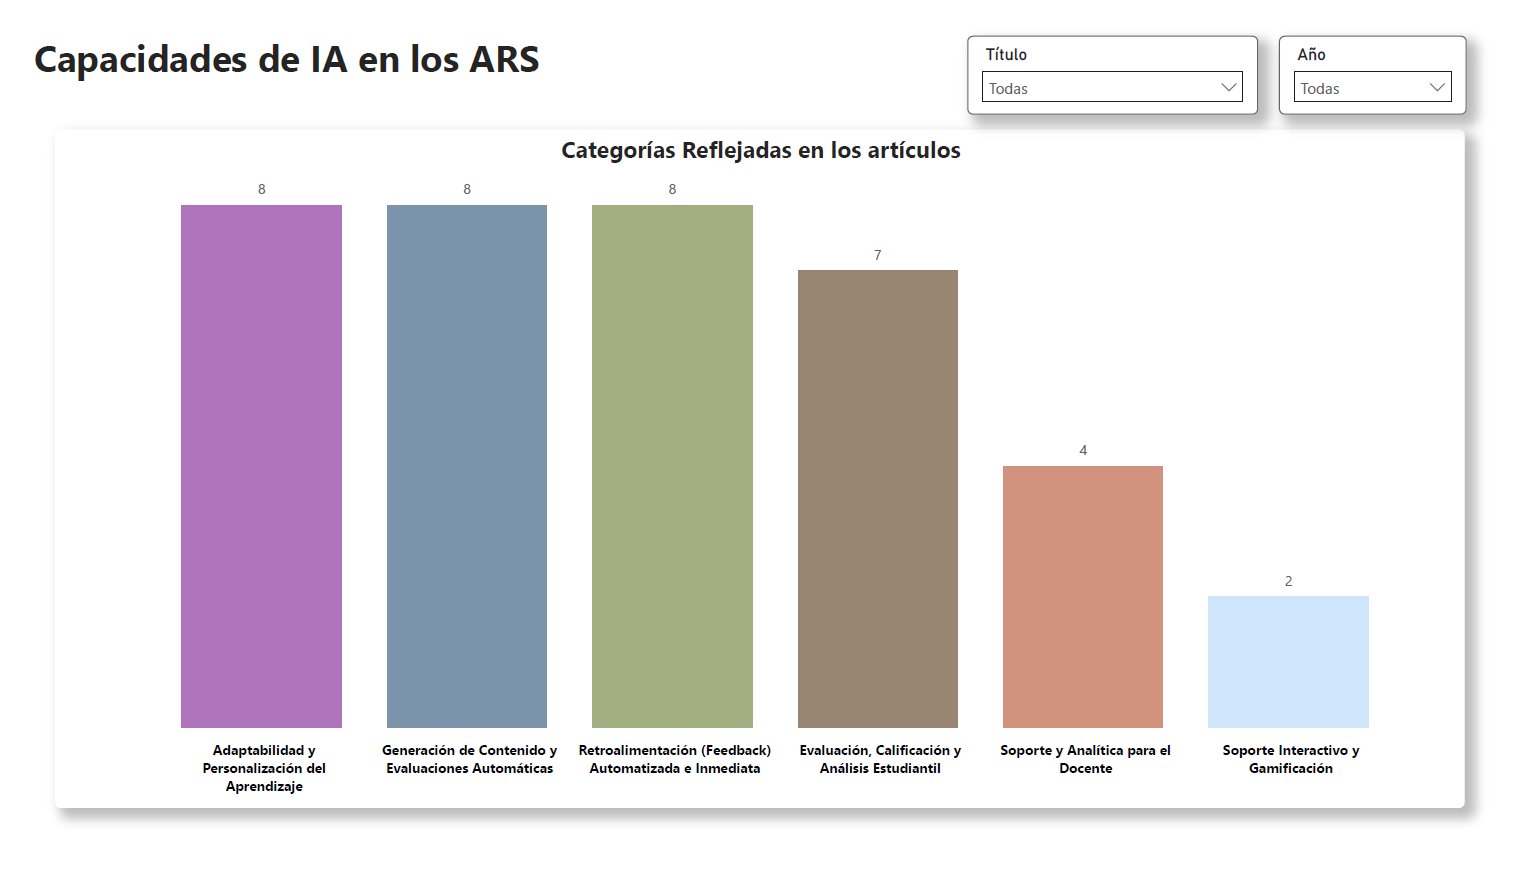

The dashboard page shown, as its layout file describes it:
{"tool":"powerbi","page":{"name":"RQ4","canvas":[1280,720],"ordinal":4},"visuals":[{"type":"clusteredColumnChart","title":"Categorías Reflejadas en los artículos","fields":{"Category":["Categorias_IA.Categorias"],"Y":["Categorias_IA.Frecuencia_IA"]},"box":[25.3,90.5,1229.4,591.4],"z":0},{"type":"textbox","box":[0,0,454.3,67.1],"z":1000},{"type":"slicer","fields":{"Values":["Hoja1.Año"]},"box":[1093,8,164,69],"z":2000},{"type":"slicer","fields":{"Values":["Hoja1.Título"]},"box":[820.7,8.2,253.9,68.9],"z":3000}]}

Visuals, with their boxes in screenshot pixels (x1, y1, x2, y2), scaled from the page's 1280x720 canvas onto the 1520x878 screenshot:
"Categorías Reflejadas en los artículos" clusteredColumnChart: [30, 110, 1490, 832]
textbox: [0, 0, 539, 82]
slicer - Hoja1.Año: [1298, 10, 1493, 94]
slicer - Hoja1.Título: [975, 10, 1276, 94]
